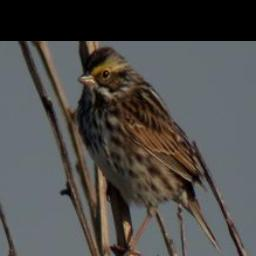Sparrow: (75, 46, 224, 256)
